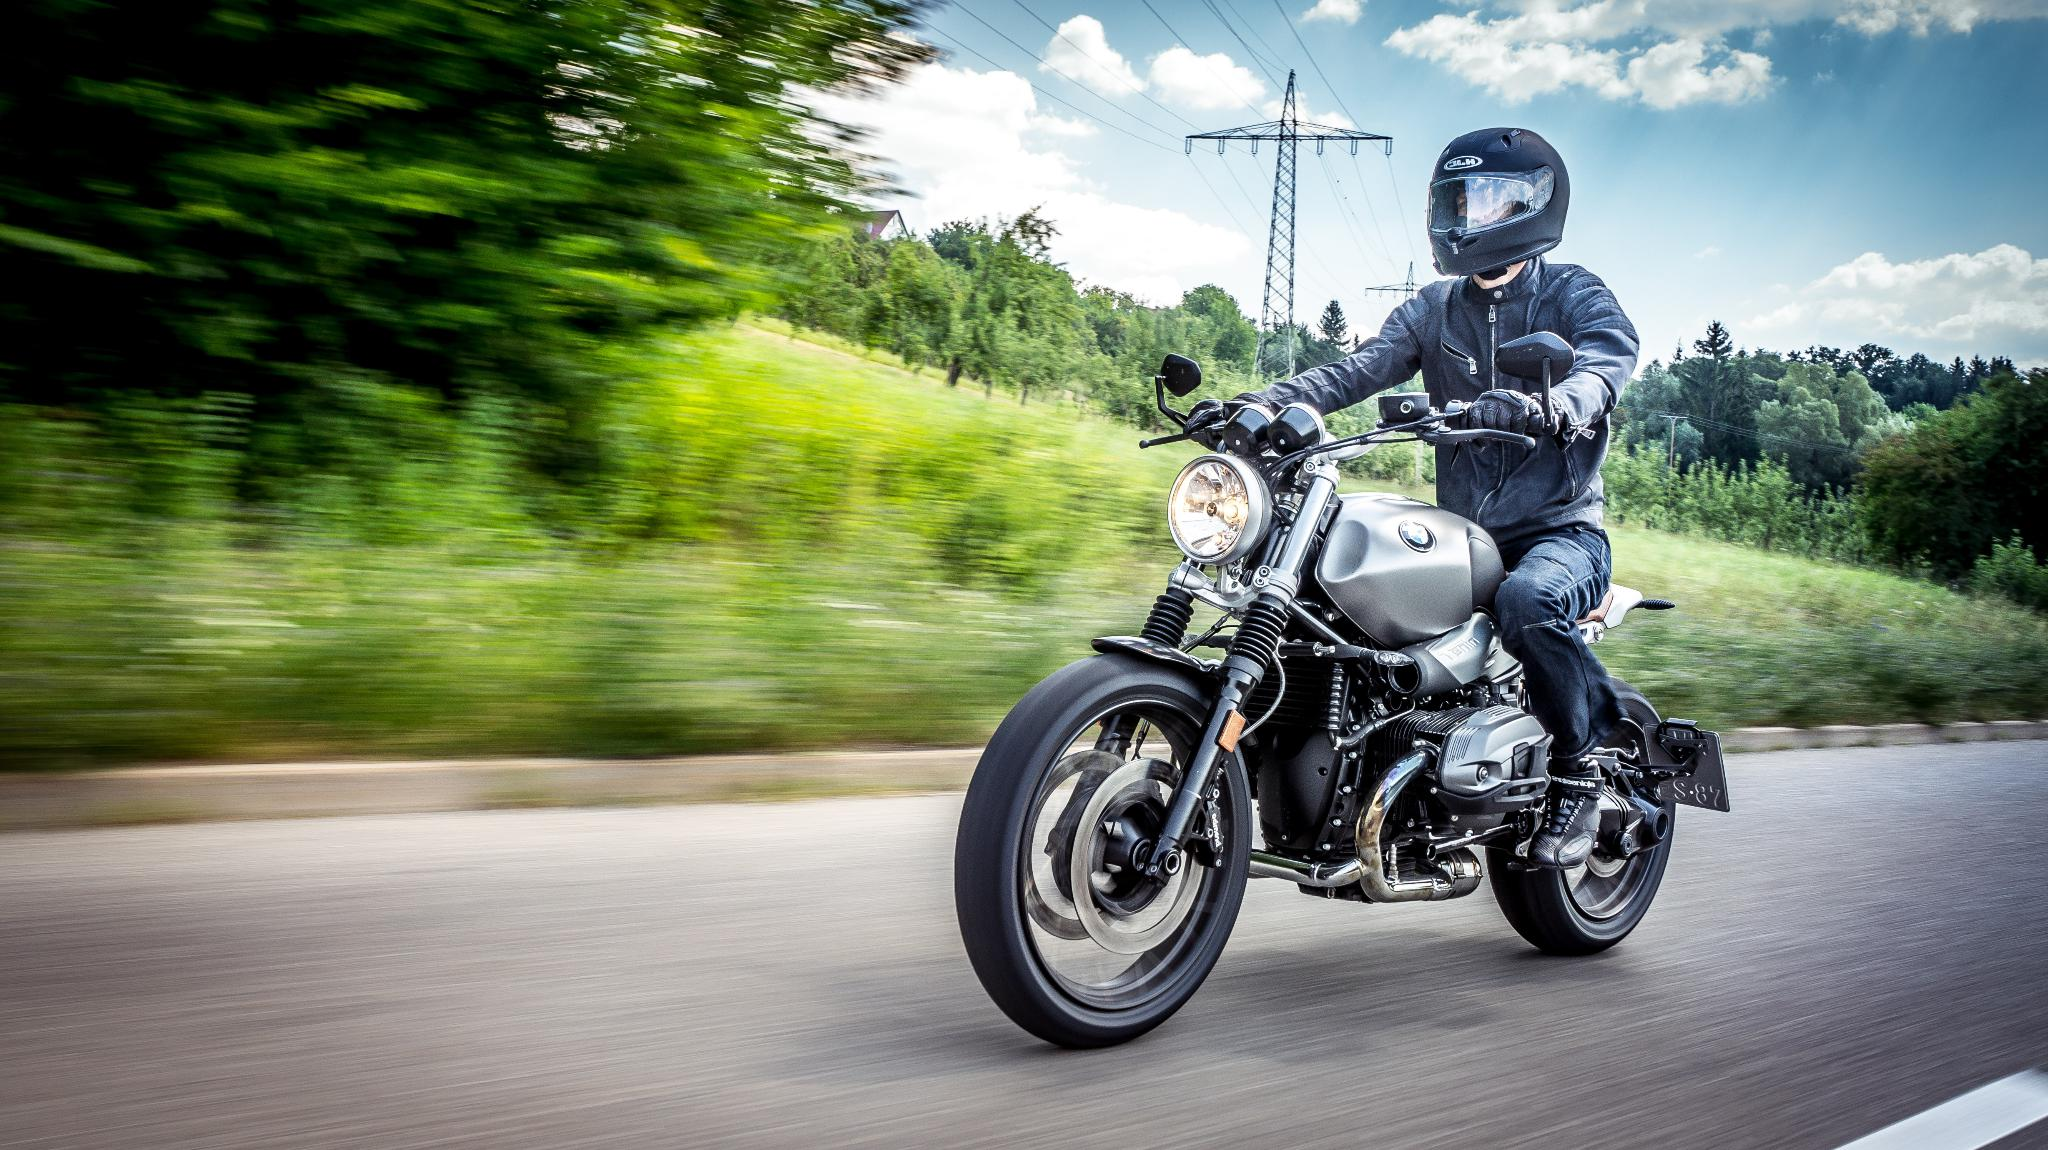motorcycle: (923, 326, 1734, 1075)
